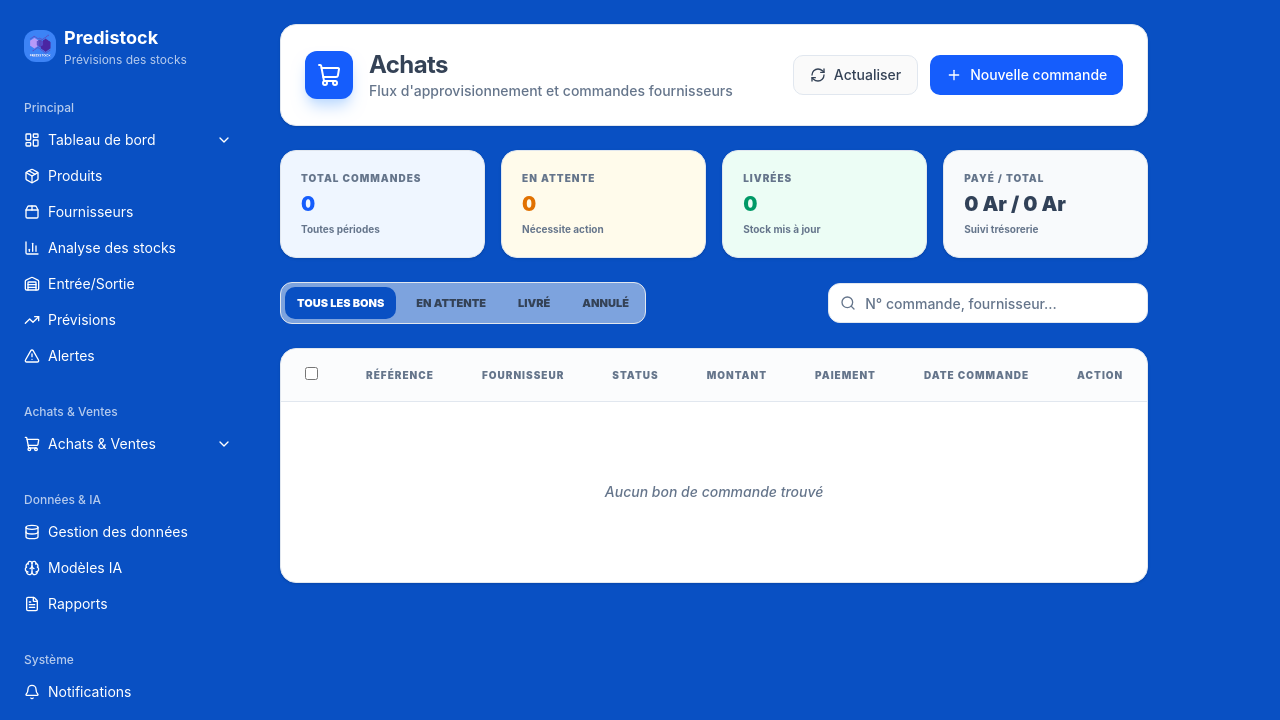
it: Intégration — l'interface Achats & Ventes est complète et accessible › l'écran « Analyse » se charge sans erreur et affiche son titre
The width and height of the screenshot is (1280, 720).
What coordinates should you click on to do the following:
click the button "Achats & Ventes"
I would click on:
 (128, 444)
Its box is [16, 428, 240, 460].
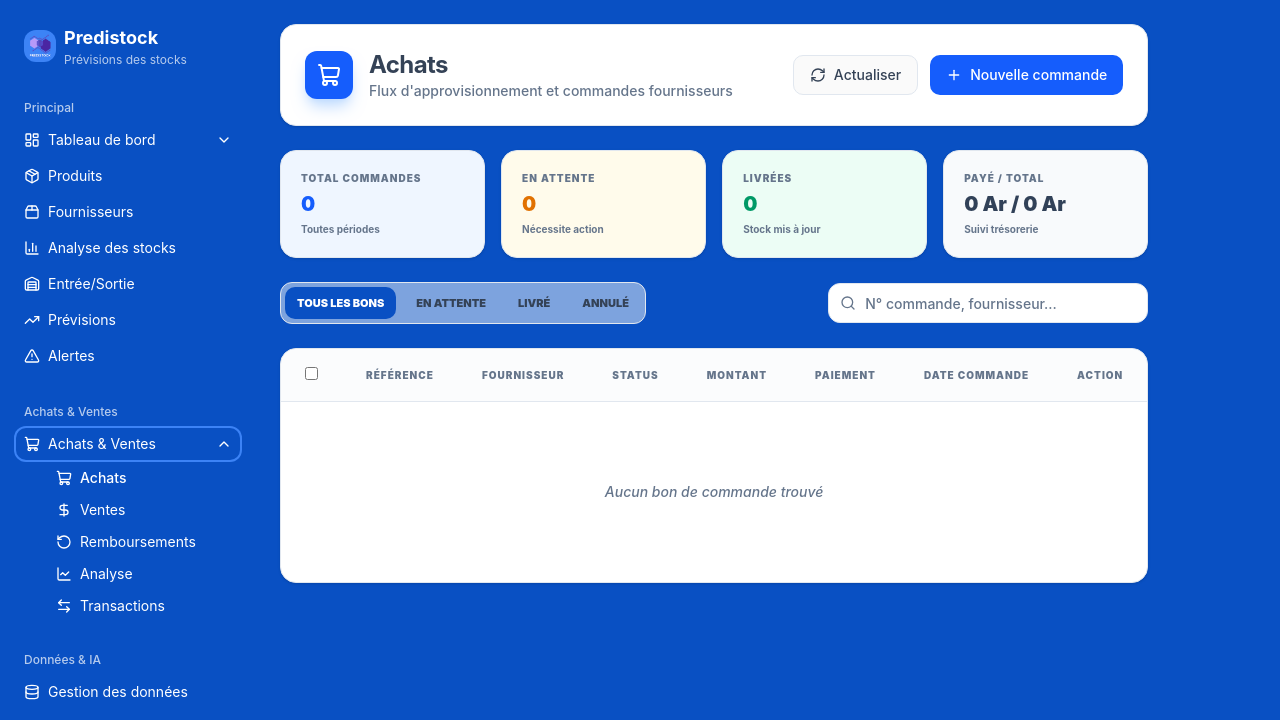
What coordinates should you click on to do the following:
click the link "Analyse"
I would click on:
 (106, 574)
Its box is [80, 564, 133, 584].
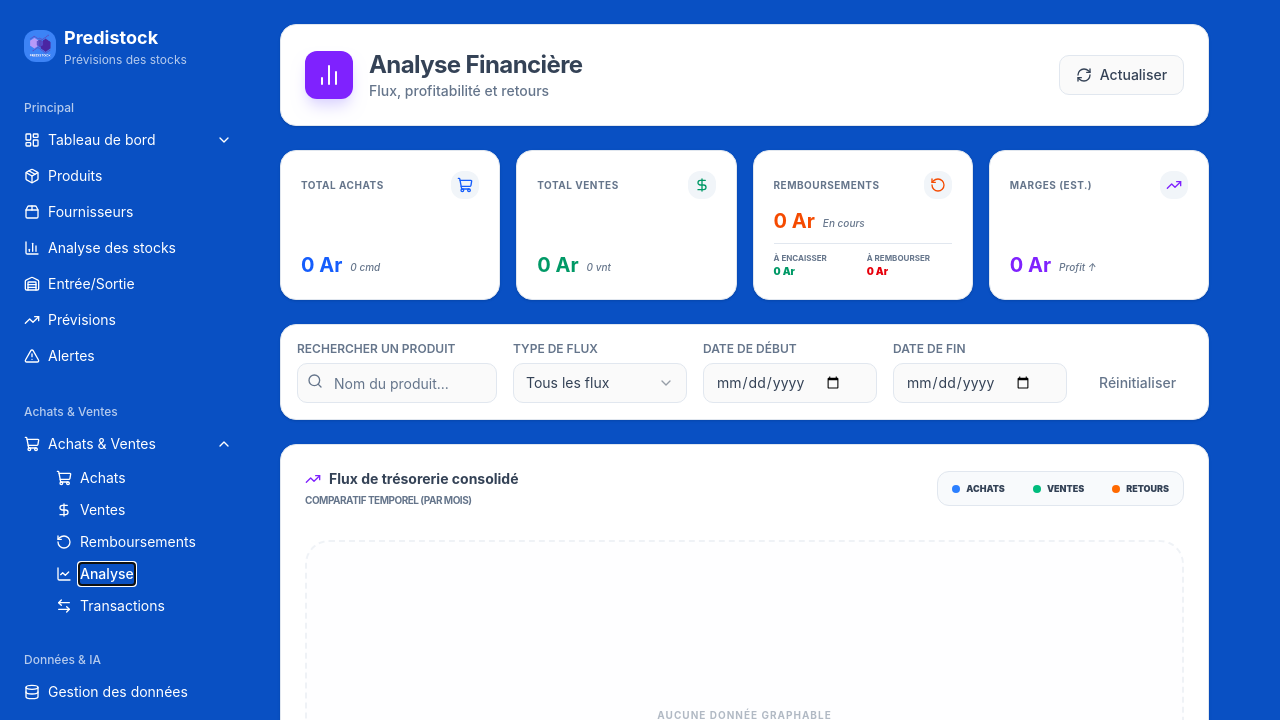
Expected: the heading "Analyse Financière" is shown, [369, 49, 582, 81]
